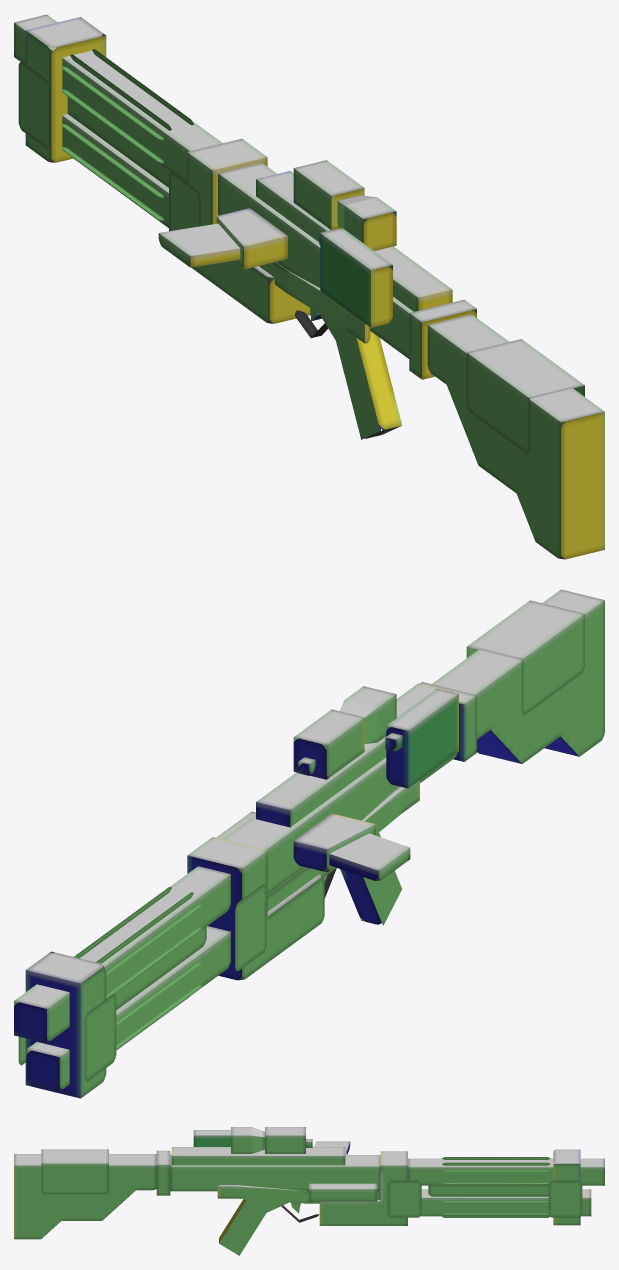
3 views of the same model, one above another, from view 1: azimuth 30°, elevation 25°; view 2: azimuth 150°, elevation 25°; view 3: azimuth 270°, elevation 25° (orthographic). The views are drawn at different scales.
Parts seen in each view (by area): view 1: barrel, stock, body, scope, counter, handle; view 2: barrel, stock, body, scope, counter, handle; view 3: barrel, body, stock, scope, handle, flashlight, counter.
Part boxes in pixels (x1,y1,x2,y2): barrel: (14,14,310,323); stock: (427,314,604,559); body: (158,162,476,379); scope: (293,160,396,250); counter: (319,228,392,327); handle: (295,310,402,439); barrel: (14,837,324,1098); stock: (432,589,604,763); body: (222,682,476,911); scope: (293,686,396,779); counter: (385,688,458,788); handle: (324,833,401,925); barrel: (319,1149,604,1225); body: (156,1141,380,1203); stock: (14,1149,156,1239); scope: (231,1127,312,1153); handle: (219,1199,319,1255); flashlight: (309,1183,376,1201); counter: (193,1130,230,1146).
Bounding box in the file's own units: 1.5 × 1.98 × 8.7.
Materials: 1 (1 with a texture image).
